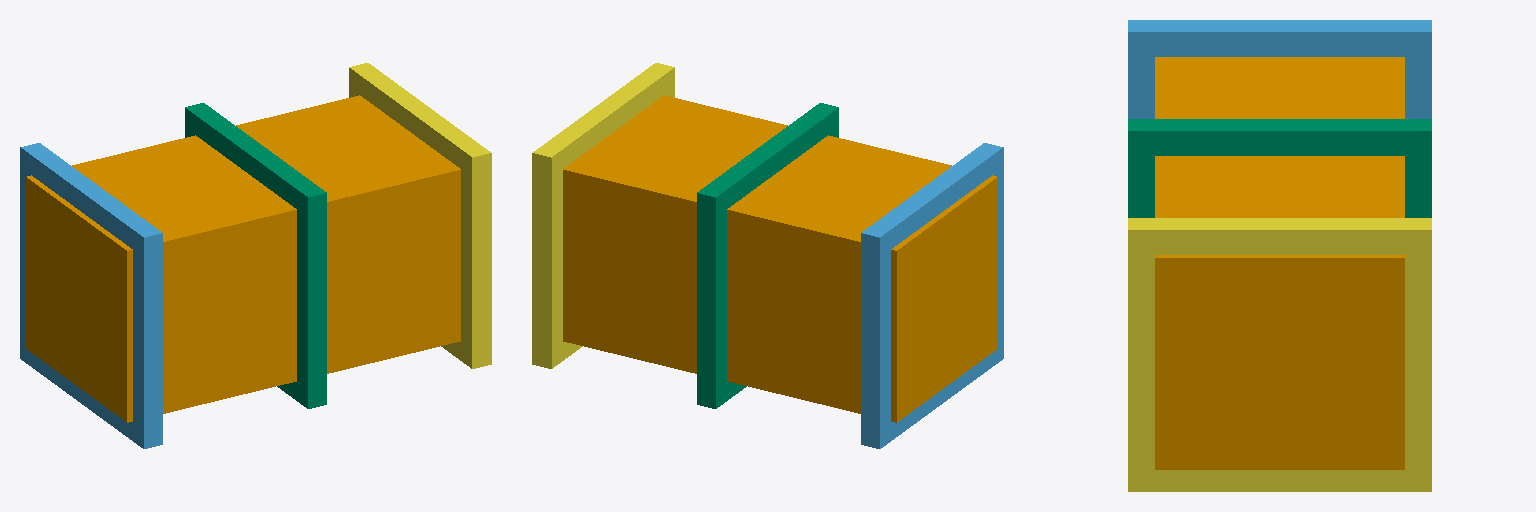
The robot description file, URDF, robot "debris036":
<?xml version="1.0" ?>
<robot name="debris036">

<link name="debris036">
<visual> <origin xyz="0 0 0" rpy="0 0 0" />
<geometry> <box size="0.94 0.46 0.43"/> </geometry>
</visual>
<collision> <origin xyz="0 0 0" rpy="0 0 0" />
<geometry> <box size="0.94 0.46 0.43"/> </geometry>
</collision>
<inertial> <origin xyz="0 0 0" rpy="0 0 0" />
<mass value="10.0" />
<inertia ixx="0.6208" ixy="0" ixz="0" iyy="0.6208" iyz="0" izz="0.6208" />
</inertial>
</link>
<gazebo reference="debris036"> <material>Gazebo/Tree</material> </gazebo>

<link name="debris0360">
<visual> <origin xyz="-0.43 0 0" rpy="0 0 0" />
<geometry> <box size="0.05 0.56 0.53"/> </geometry>
</visual>
<collision> <origin xyz="-0.43 0 0" rpy="0 0 0" />
<geometry> <box size="0.05 0.56 0.53"/> </geometry>
</collision>
<inertial> <origin xyz="0 0 0" rpy="0 0 0" />
<mass value="0.1" />
<inertia ixx="0.0100" ixy="0" ixz="0" iyy="0.0100" iyz="0" izz="0.0100" />
</inertial>
</link>
<gazebo reference="debris0360"> <material>Gazebo/Tree</material> </gazebo>

<joint name="debris0360joint" type="fixed">
<parent link="debris036"/>
<child link="debris0360"/>
<origin xyz="0 0 0" rpy="0 0 0" />
</joint>

<link name="debris0361">
<visual> <origin xyz="0.00 0 0" rpy="0 0 0" />
<geometry> <box size="0.05 0.56 0.53"/> </geometry>
</visual>
<collision> <origin xyz="0.00 0 0" rpy="0 0 0" />
<geometry> <box size="0.05 0.56 0.53"/> </geometry>
</collision>
<inertial> <origin xyz="0 0 0" rpy="0 0 0" />
<mass value="0.1" />
<inertia ixx="0.0100" ixy="0" ixz="0" iyy="0.0100" iyz="0" izz="0.0100" />
</inertial>
</link>
<gazebo reference="debris0361"> <material>Gazebo/Tree</material> </gazebo>

<joint name="debris0361joint" type="fixed">
<parent link="debris036"/>
<child link="debris0361"/>
<origin xyz="0 0 0" rpy="0 0 0" />
</joint>

<link name="debris0362">
<visual> <origin xyz="0.43 0 0" rpy="0 0 0" />
<geometry> <box size="0.05 0.56 0.53"/> </geometry>
</visual>
<collision> <origin xyz="0.43 0 0" rpy="0 0 0" />
<geometry> <box size="0.05 0.56 0.53"/> </geometry>
</collision>
<inertial> <origin xyz="0 0 0" rpy="0 0 0" />
<mass value="0.1" />
<inertia ixx="0.0100" ixy="0" ixz="0" iyy="0.0100" iyz="0" izz="0.0100" />
</inertial>
</link>
<gazebo reference="debris0362"> <material>Gazebo/Tree</material> </gazebo>

<joint name="debris0362joint" type="fixed">
<parent link="debris036"/>
<child link="debris0362"/>
<origin xyz="0 0 0" rpy="0 0 0" />
</joint>

</robot>

--- Render facts (derived) ---
3 views of the same robot in one strip: view 1: azimuth 30°, elevation 25°; view 2: azimuth 150°, elevation 25°; view 3: azimuth 270°, elevation 25° (orthographic).
Robot: debris036 — 4 links, 3 joints (3 fixed); root link debris036; default pose: all joints at 0.
Visible links, largest first — view 1: debris036, debris0360, debris0362, debris0361; view 2: debris036, debris0360, debris0362, debris0361; view 3: debris036, debris0362, debris0360, debris0361.
Link boxes in pixels (x1,y1,x2,y2): debris036: (26, 95, 460, 422); debris0360: (20, 143, 162, 448); debris0362: (349, 63, 491, 368); debris0361: (185, 103, 326, 408); debris036: (563, 95, 997, 422); debris0360: (861, 143, 1003, 448); debris0362: (532, 63, 674, 368); debris0361: (697, 103, 838, 408); debris036: (1155, 57, 1404, 469); debris0362: (1128, 218, 1431, 491); debris0360: (1128, 20, 1431, 118); debris0361: (1128, 119, 1431, 217).
Size in the robot's own frame: 0.94 by 0.56 by 0.53 metres.
Geometry: primitives only (box / cylinder / sphere), no mesh files.
